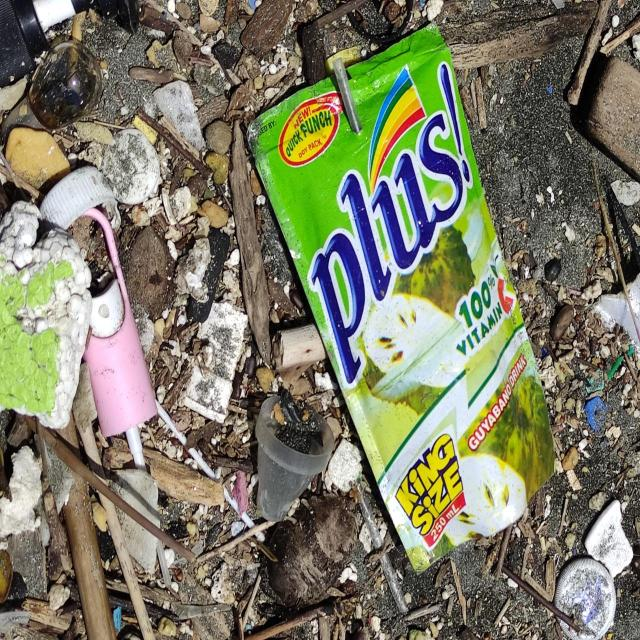plastic_waste: (245, 19, 567, 582), (554, 556, 618, 640)
styrofoam_waste: (1, 199, 95, 431)
